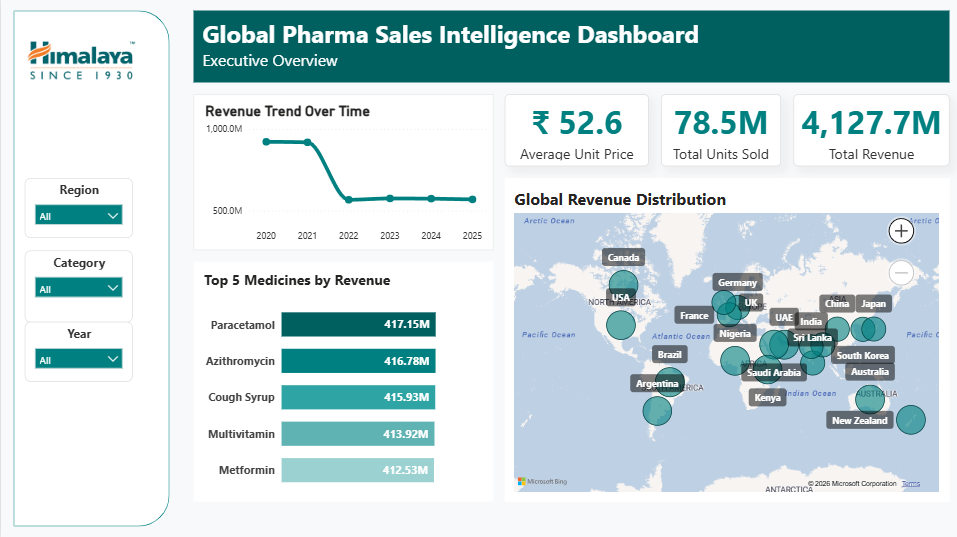

What the dashboard file says about the page in this screenshot:
{"tool":"powerbi","page":{"name":"Executive Overview","canvas":[1280,720],"ordinal":0},"visuals":[{"type":"textbox","box":[256,16,1008,96],"z":0},{"type":"card","fields":{"Values":["_KPI_Table.Total Revenue"]},"box":[1056,128,208,96],"z":1000},{"type":"card","fields":{"Values":["_KPI_Table.Average Unit Price"]},"box":[672,128,192,96],"z":2000},{"type":"card","fields":{"Values":["_KPI_Table.Total Units Sold"]},"box":[880,128,160,96],"z":3000},{"type":"lineChart","title":"Revenue Trend Over Time","fields":{"Category":["Dim_Date.Date Hierarchy.Year","Dim_Date.Date Hierarchy.Quarter","Dim_Date.Date Hierarchy.Month Name"],"Y":["_KPI_Table.Total Revenue"]},"box":[256,128,400,208],"z":4000},{"type":"clusteredBarChart","title":"Top 5 Medicines by Revenue","fields":{"Category":["Dim_Product.medicine"],"Y":["_KPI_Table.Total Revenue"]},"box":[256,352,400,320],"z":5000},{"type":"map","title":"Global Revenue Distribution","fields":{"Category":["Dim_Region.country"],"Size":["_KPI_Table.Total Revenue"]},"box":[672,240,592,432],"z":6000},{"type":"shape","box":[16,16,208,688],"z":9000},{"type":"slicer","title":"Region","fields":{"Values":["Dim_Region.region"]},"box":[32,240,144,80],"z":9250},{"type":"slicer","title":"Category","fields":{"Values":["Dim_Demographics.age_group"]},"box":[32,336,144,96],"z":9500},{"type":"slicer","title":"Year","fields":{"Values":["Dim_Date.Year"]},"box":[32,432,144,80],"z":10000}]}

Visuals, with their boxes in screenshot pixels (x1, y1, x2, y2), scaled from the page's 1280x720 canvas onto the 957x537 screenshot:
textbox: l=191, t=12, r=945, b=84
card - _KPI_Table.Total Revenue: l=790, t=95, r=945, b=167
card - _KPI_Table.Average Unit Price: l=502, t=95, r=646, b=167
card - _KPI_Table.Total Units Sold: l=658, t=95, r=778, b=167
"Revenue Trend Over Time" lineChart: l=191, t=95, r=490, b=251
"Top 5 Medicines by Revenue" clusteredBarChart: l=191, t=263, r=490, b=501
"Global Revenue Distribution" map: l=502, t=179, r=945, b=501
shape: l=12, t=12, r=167, b=525
"Region" slicer: l=24, t=179, r=132, b=239
"Category" slicer: l=24, t=251, r=132, b=322
"Year" slicer: l=24, t=322, r=132, b=382
